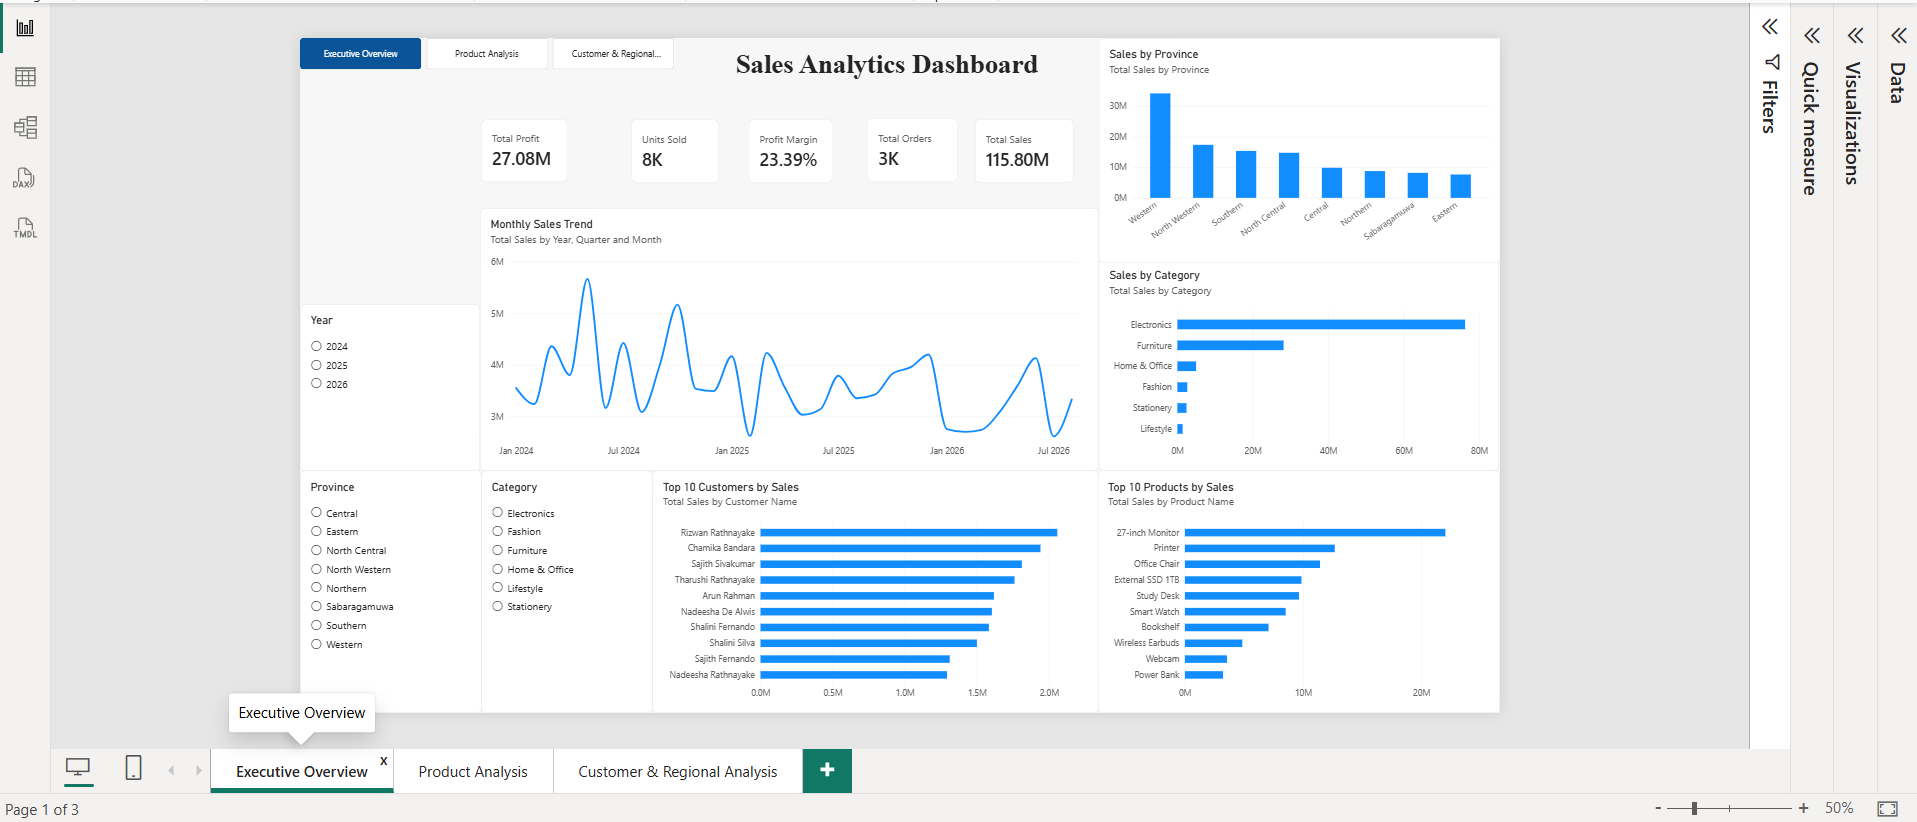

What the dashboard file says about the page in this screenshot:
{"tool":"powerbi","page":{"name":"Executive Overview","canvas":[1920,1080],"ordinal":0},"visuals":[{"type":"cardVisual","fields":{"Data":["Raw_Sales_Data.Total Profit"]},"box":[290,130,138,100],"z":0},{"type":"cardVisual","fields":{"Data":["Raw_Sales_Data.Total Orders"]},"box":[908,128,144,102],"z":1000},{"type":"cardVisual","fields":{"Data":["Raw_Sales_Data.Total Sales"]},"box":[1080,130,158,102],"z":2000},{"type":"cardVisual","fields":{"Data":["Raw_Sales_Data.Units Sold"]},"box":[530,130,140,102],"z":3000},{"type":"cardVisual","fields":{"Data":["Raw_Sales_Data.Profit Margin"]},"box":[718,130,134,102],"z":4000},{"type":"lineChart","title":"Monthly Sales Trend","fields":{"Category":["Raw_Sales_Data.Order Date.Variation.Date Hierarchy.Year","Raw_Sales_Data.Order Date.Variation.Date Hierarchy.Quarter","Raw_Sales_Data.Order Date.Variation.Date Hierarchy.Month","Raw_Sales_Data.Order Date.Variation.Date Hierarchy.Day"],"Y":["Raw_Sales_Data.Total Sales"]},"box":[288,272,990,420],"z":5000},{"type":"clusteredBarChart","title":"Sales by Category","fields":{"Category":["Raw_Sales_Data.Category"],"Y":["Raw_Sales_Data.Total Sales"]},"box":[1278,354,640,338],"z":6000},{"type":"clusteredColumnChart","title":"Sales by Province","fields":{"Category":["Raw_Sales_Data.Province"],"Y":["Raw_Sales_Data.Total Sales"]},"box":[1278,0,642,360],"z":7000},{"type":"clusteredBarChart","title":"Top 10 Products by Sales","fields":{"Category":["Raw_Sales_Data.Product Name"],"Y":["Raw_Sales_Data.Total Sales"]},"box":[1276,692,644,388],"z":8000},{"type":"clusteredBarChart","title":"Top 10 Customers by Sales","fields":{"Category":["Raw_Sales_Data.Customer Name"],"Y":["Raw_Sales_Data.Total Sales"]},"box":[564,692,714,388],"z":9000},{"type":"listSlicer","fields":{"Values":["Raw_Sales_Data.Order Date.Variation.Date Hierarchy.Year"]},"box":[0,426,288,266],"z":10000},{"type":"listSlicer","fields":{"Values":["Raw_Sales_Data.Category"]},"box":[290,692,274,388],"z":11000},{"type":"listSlicer","fields":{"Values":["Raw_Sales_Data.Province"]},"box":[0,692,290,388],"z":12000},{"type":"textbox","box":[640,16,598,94],"z":13000},{"type":"pageNavigator","box":[0,0,600,50],"z":13001}]}

Visuals, with their boxes on the page's 1920x1080 design canvas (x1, y1, x2, y2). These are canvas units, not pixel positions in the 1917x822 screenshot, which may show the page scaled, cropped or inside an application window:
cardVisual - Raw_Sales_Data.Total Profit: [290, 130, 428, 230]
cardVisual - Raw_Sales_Data.Total Orders: [908, 128, 1052, 230]
cardVisual - Raw_Sales_Data.Total Sales: [1080, 130, 1238, 232]
cardVisual - Raw_Sales_Data.Units Sold: [530, 130, 670, 232]
cardVisual - Raw_Sales_Data.Profit Margin: [718, 130, 852, 232]
"Monthly Sales Trend" lineChart: [288, 272, 1278, 692]
"Sales by Category" clusteredBarChart: [1278, 354, 1918, 692]
"Sales by Province" clusteredColumnChart: [1278, 0, 1920, 360]
"Top 10 Products by Sales" clusteredBarChart: [1276, 692, 1920, 1080]
"Top 10 Customers by Sales" clusteredBarChart: [564, 692, 1278, 1080]
listSlicer - Raw_Sales_Data.Order Date.Variation.Date Hierarchy.Year: [0, 426, 288, 692]
listSlicer - Raw_Sales_Data.Category: [290, 692, 564, 1080]
listSlicer - Raw_Sales_Data.Province: [0, 692, 290, 1080]
textbox: [640, 16, 1238, 110]
pageNavigator: [0, 0, 600, 50]
